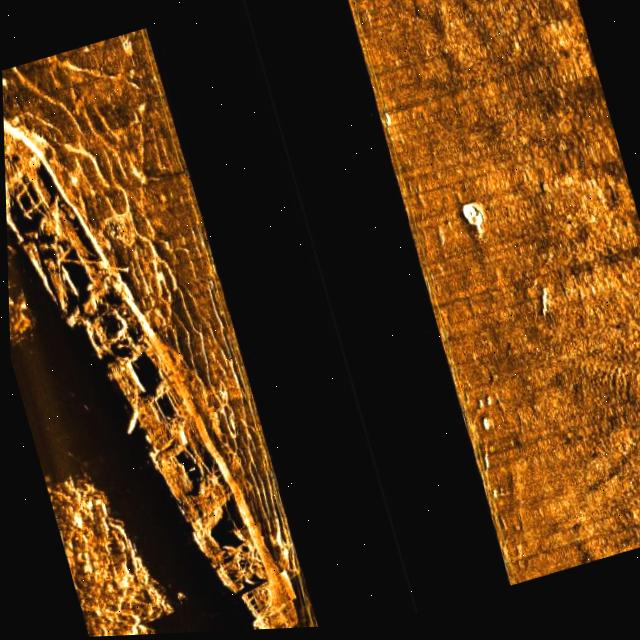shipwreck: (1, 43, 297, 640)
